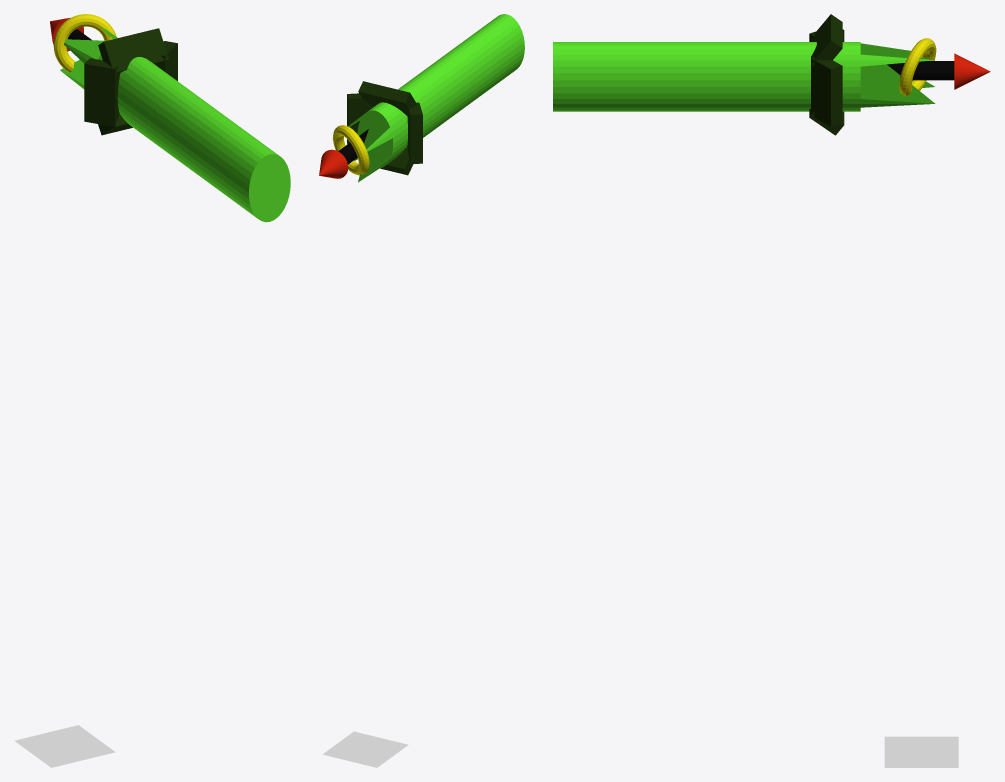
The model's file is ChromoLatcherSnatcher.fbx.
3 renders of one model, left to right at view 1: azimuth 30°, elevation 25°; view 2: azimuth 150°, elevation 25°; view 3: azimuth 270°, elevation 25°, orthographic. The views are drawn at different scales.
Visible parts, largest first — view 1: Cylinder, Grid, Cube.002, Cube, Torus, Cube.003; view 2: Cylinder, Grid, Cube, Torus, Cube.002, Cone, Cube.003, Cube.001; view 3: Cylinder, Grid, Cube.003, Cube, Torus, Cylinder.001.
Boxes of the visible parts, bbox=[...] form: Cylinder: bbox=[60, 27, 290, 222]; Grid: bbox=[14, 725, 115, 767]; Cube.002: bbox=[84, 58, 120, 126]; Cube: bbox=[98, 28, 168, 72]; Torus: bbox=[53, 14, 116, 72]; Cube.003: bbox=[155, 41, 177, 80]; Cylinder: bbox=[332, 14, 524, 182]; Grid: bbox=[322, 731, 408, 767]; Cube: bbox=[358, 81, 416, 115]; Torus: bbox=[333, 125, 369, 175]; Cube.002: bbox=[407, 102, 422, 164]; Cone: bbox=[319, 149, 348, 178]; Cube.003: bbox=[347, 93, 373, 144]; Cube.001: bbox=[380, 146, 413, 175]; Cylinder: bbox=[553, 42, 935, 111]; Grid: bbox=[884, 736, 958, 767]; Cube.003: bbox=[811, 57, 842, 126]; Cube: bbox=[811, 14, 842, 66]; Torus: bbox=[899, 38, 936, 95]; Cylinder.001: bbox=[887, 61, 954, 80].
Bounding box in the file's own units: 309 × 2195 × 1185.
